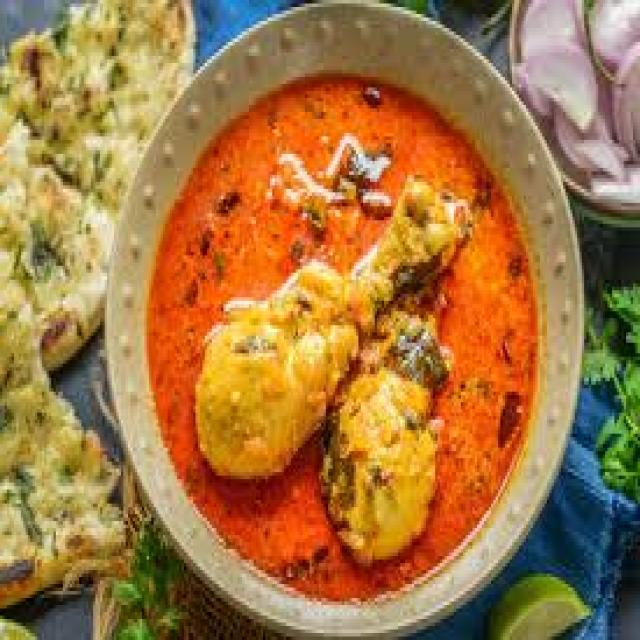Chicken Curry: (145, 84, 550, 608)
